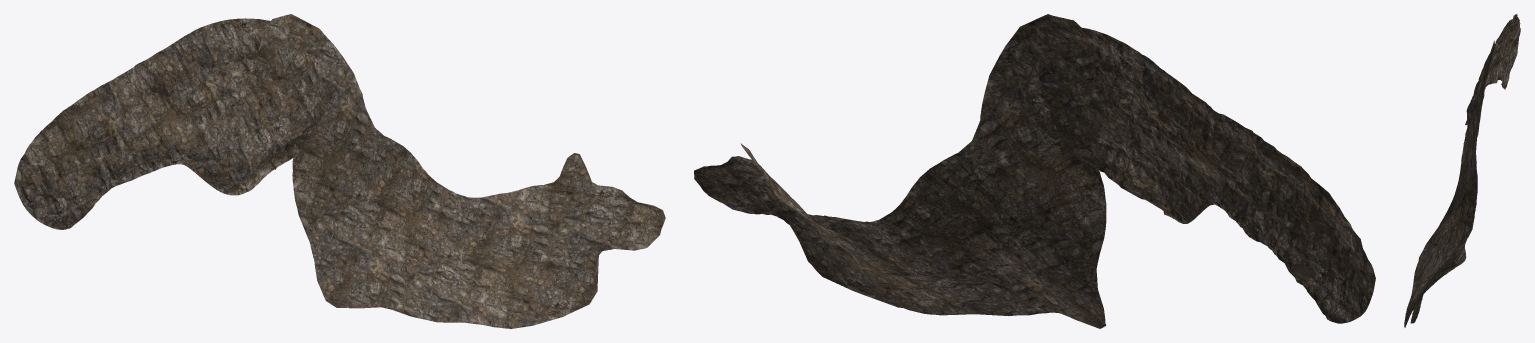
3 renders of one model, left to right at view 1: azimuth 30°, elevation 25°; view 2: azimuth 150°, elevation 25°; view 3: azimuth 270°, elevation 25°, orthographic. The views are drawn at different scales.
Bounding box in the file's own units: 157 × 80.36 × 40.07.
1 material, 1 textured.
